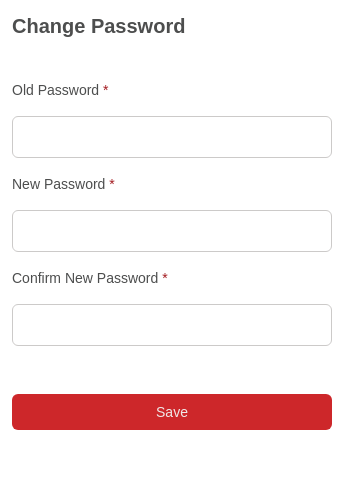
Test: security page › validates form fields - passwords do not match
The image size is (349, 483).
Type "abcdefgh" into the field labelled "Old Password" at (172, 137), box [12,116,332,158]
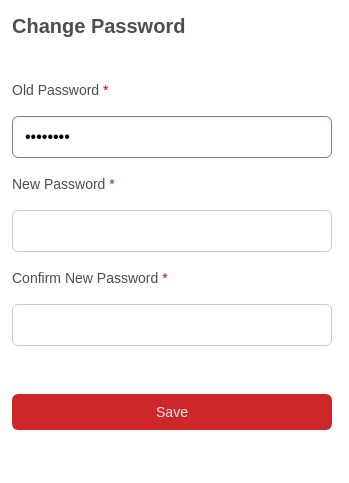
Type "abcdefghi" into the field labelled "New Password" at (172, 231), box [12,210,332,252]
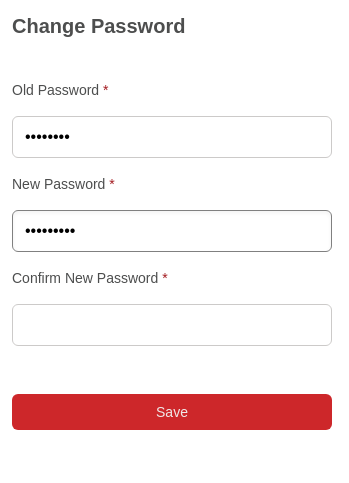
Type "abcdefghij" into the field named "confirm password" at (172, 325), box [12,304,332,346]
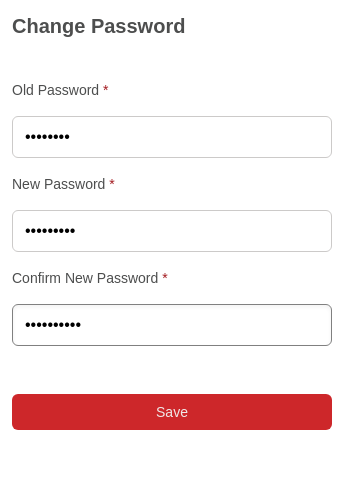
Click the button "Save" at (172, 412), box [12,394,332,430]
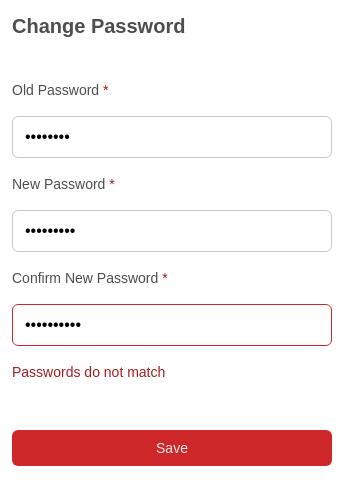
Now the number of messages is 1, box [12,364,165,380]
